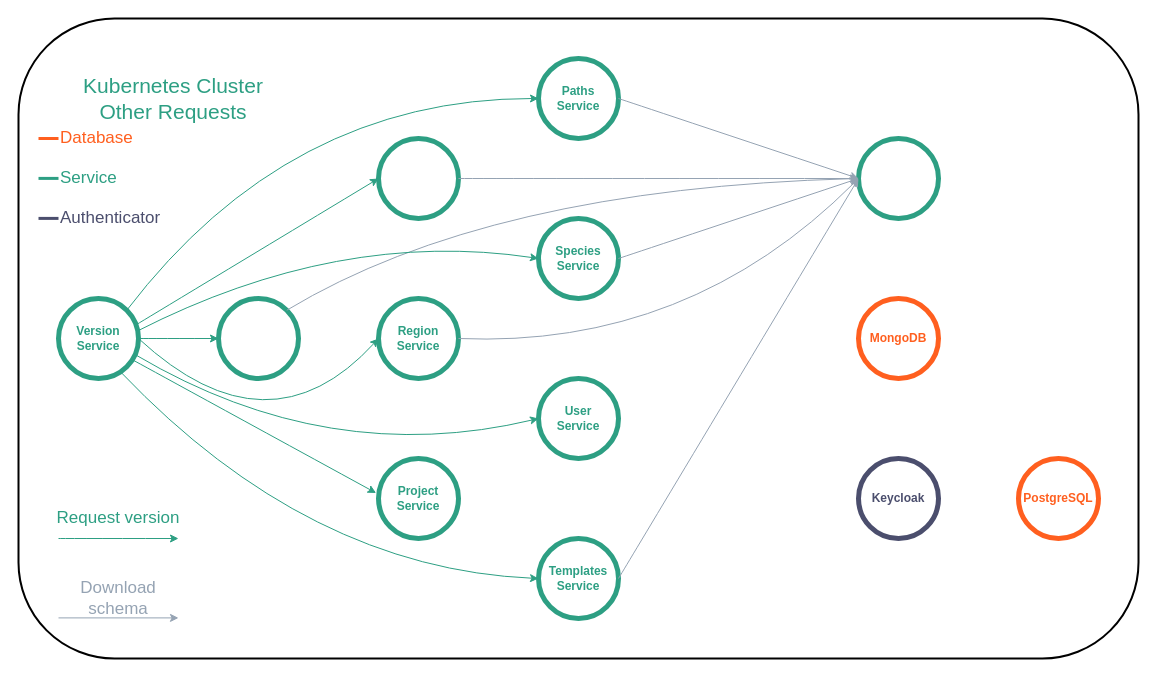
Image size: 1156x676. Some labels were removed from this diagram. Here are the shapes that lost their labels. From the top down, the centre of each, then its label:
At point (418, 178): "Census Service".
At point (898, 178): "Specifications Service".
At point (258, 338): "Sync Service".
